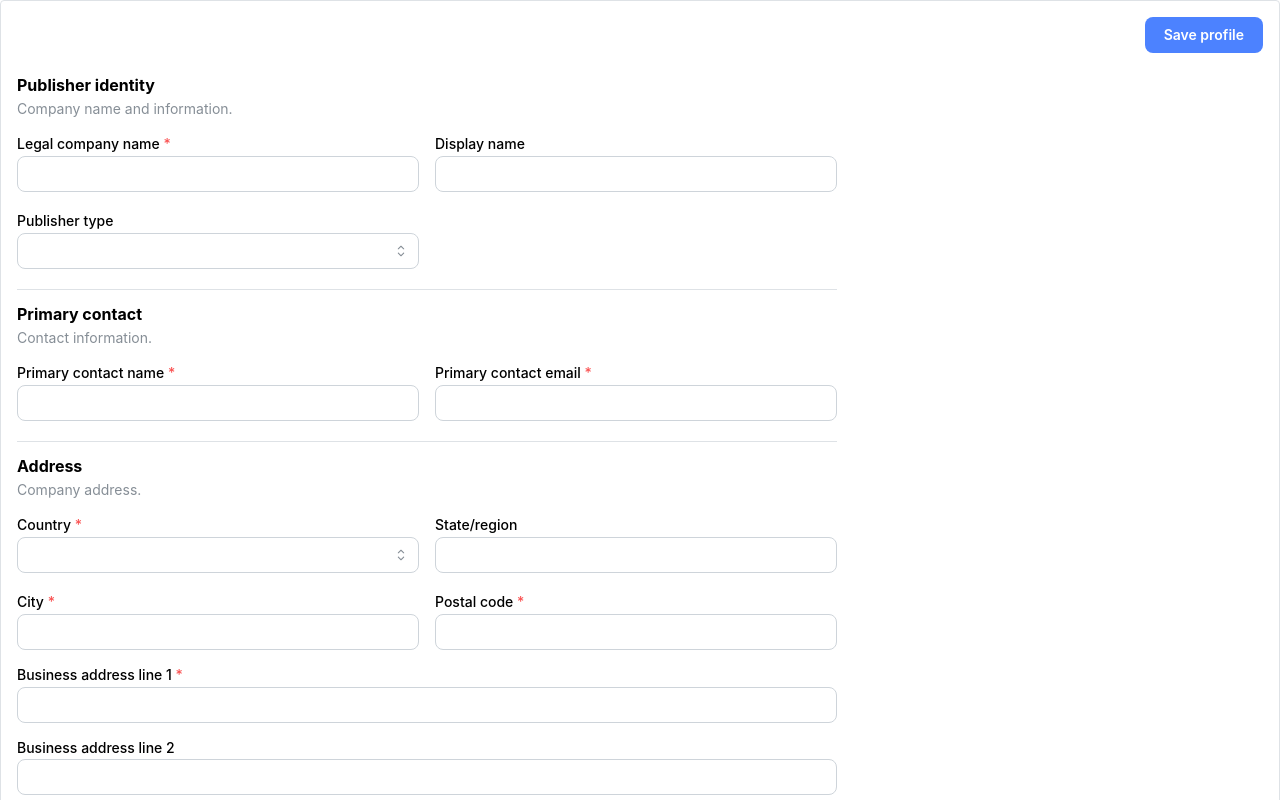
Test case: CompanyProfileForm › uses the allowed company type options
Click the field labelled "Publisher type".
click(218, 251)  # box [17,233,419,269]
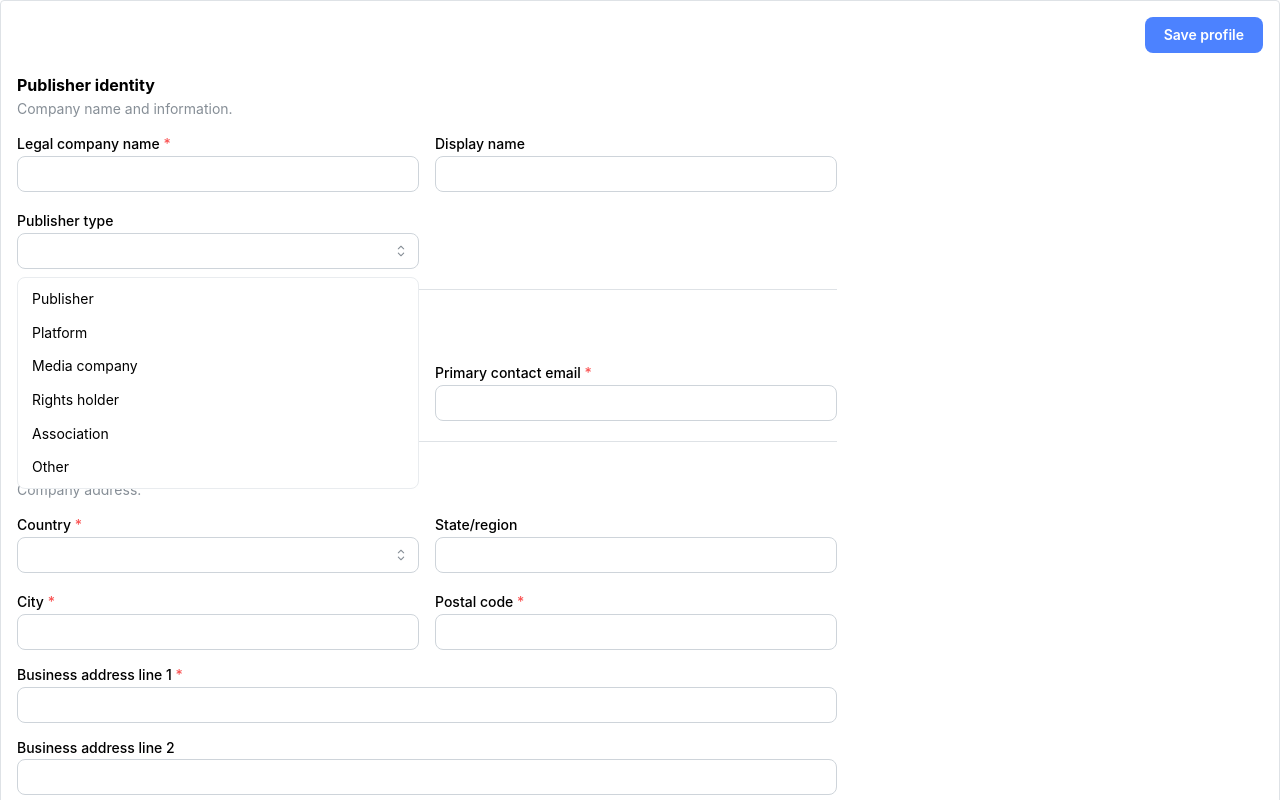
Expected: the text "Publisher" is shown, [32,288,94,310]
Expected: the text "Platform" is shown, [32,322,87,343]
Expected: the text "Media company" is shown, [32,355,138,377]
